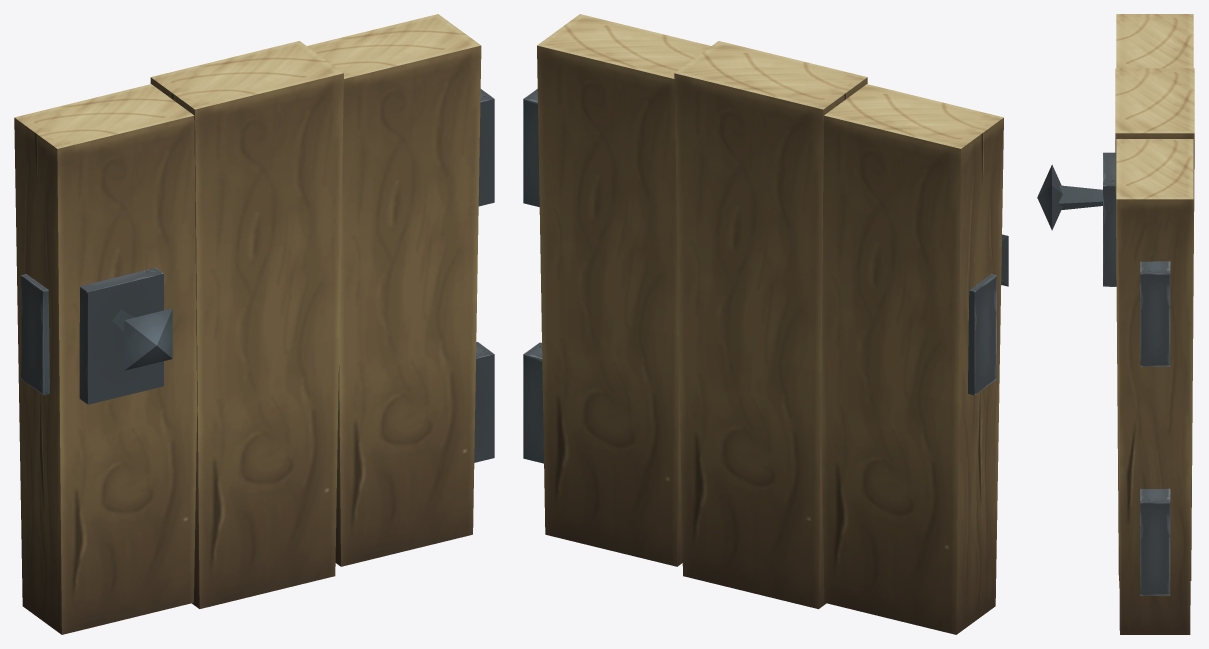
File: gates_07.fbx
3 renders of one model, left to right at view 1: azimuth 30°, elevation 25°; view 2: azimuth 150°, elevation 25°; view 3: azimuth 270°, elevation 25°, orthographic. The views are drawn at different scales.
Parts seen in each view (by area): view 1: gates_07:Mesh; view 2: gates_07:Mesh; view 3: gates_07:Mesh.
Boxes of the visible parts, x1,y1,x2,y2 form: gates_07:Mesh: (14, 14, 494, 634); gates_07:Mesh: (523, 14, 1008, 634); gates_07:Mesh: (1037, 14, 1194, 634).
Bounding box in the file's own units: 2.69 × 2.85 × 0.9029.
